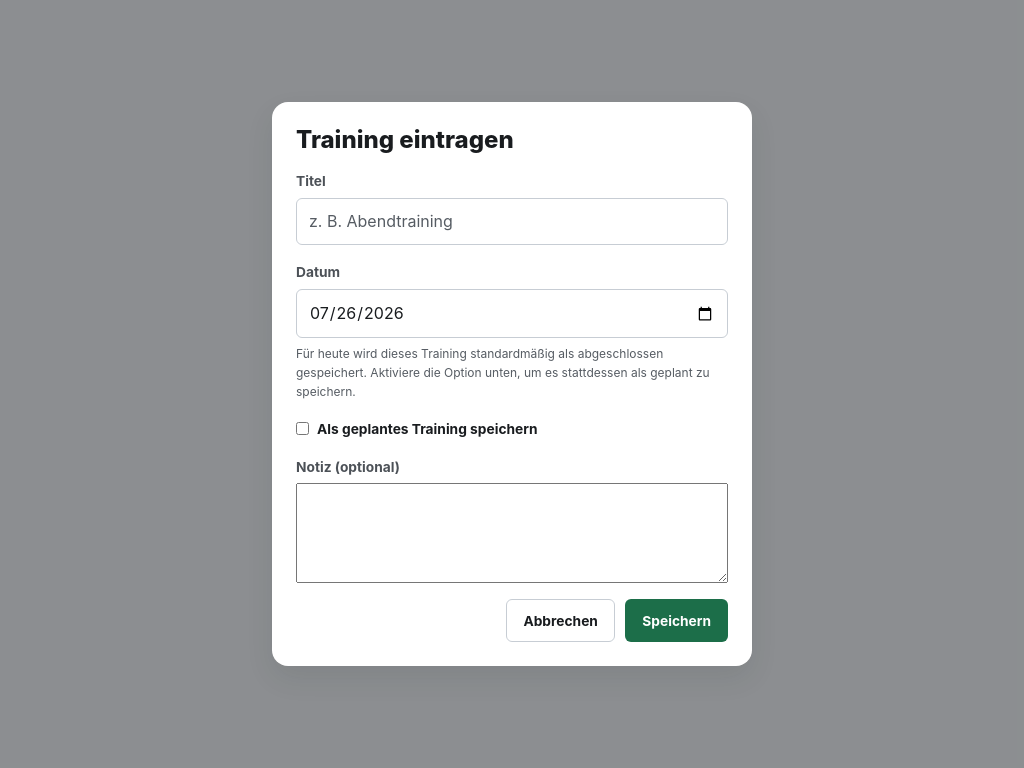
Scenario: CalendarCreateDialog › shows the future hint and hides planAsUpcoming for a future date
This screenshot has width=1024, height=768.
Step 1. Type "2026-08-15" into the date field labelled "Datum" → (512, 314), box [296,289,728,338]
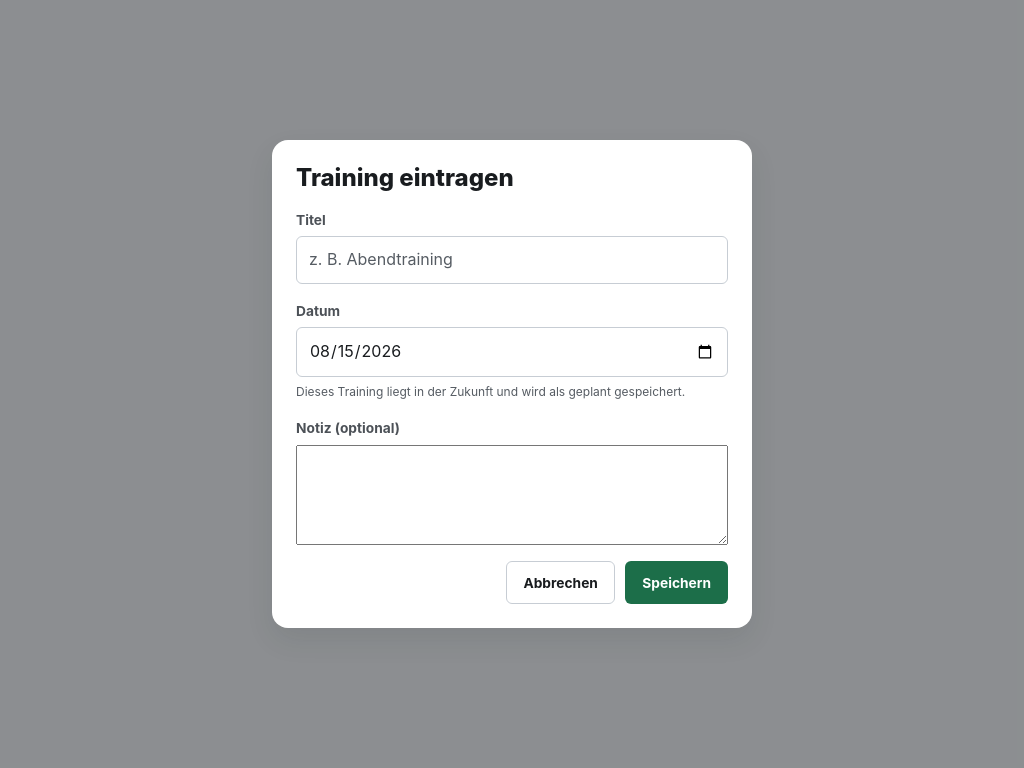
Expected: the dialog shows "liegt in der Zukunft und wird als geplant gespeichert", [296,384,685,399]
Expected: the checkbox is gone
